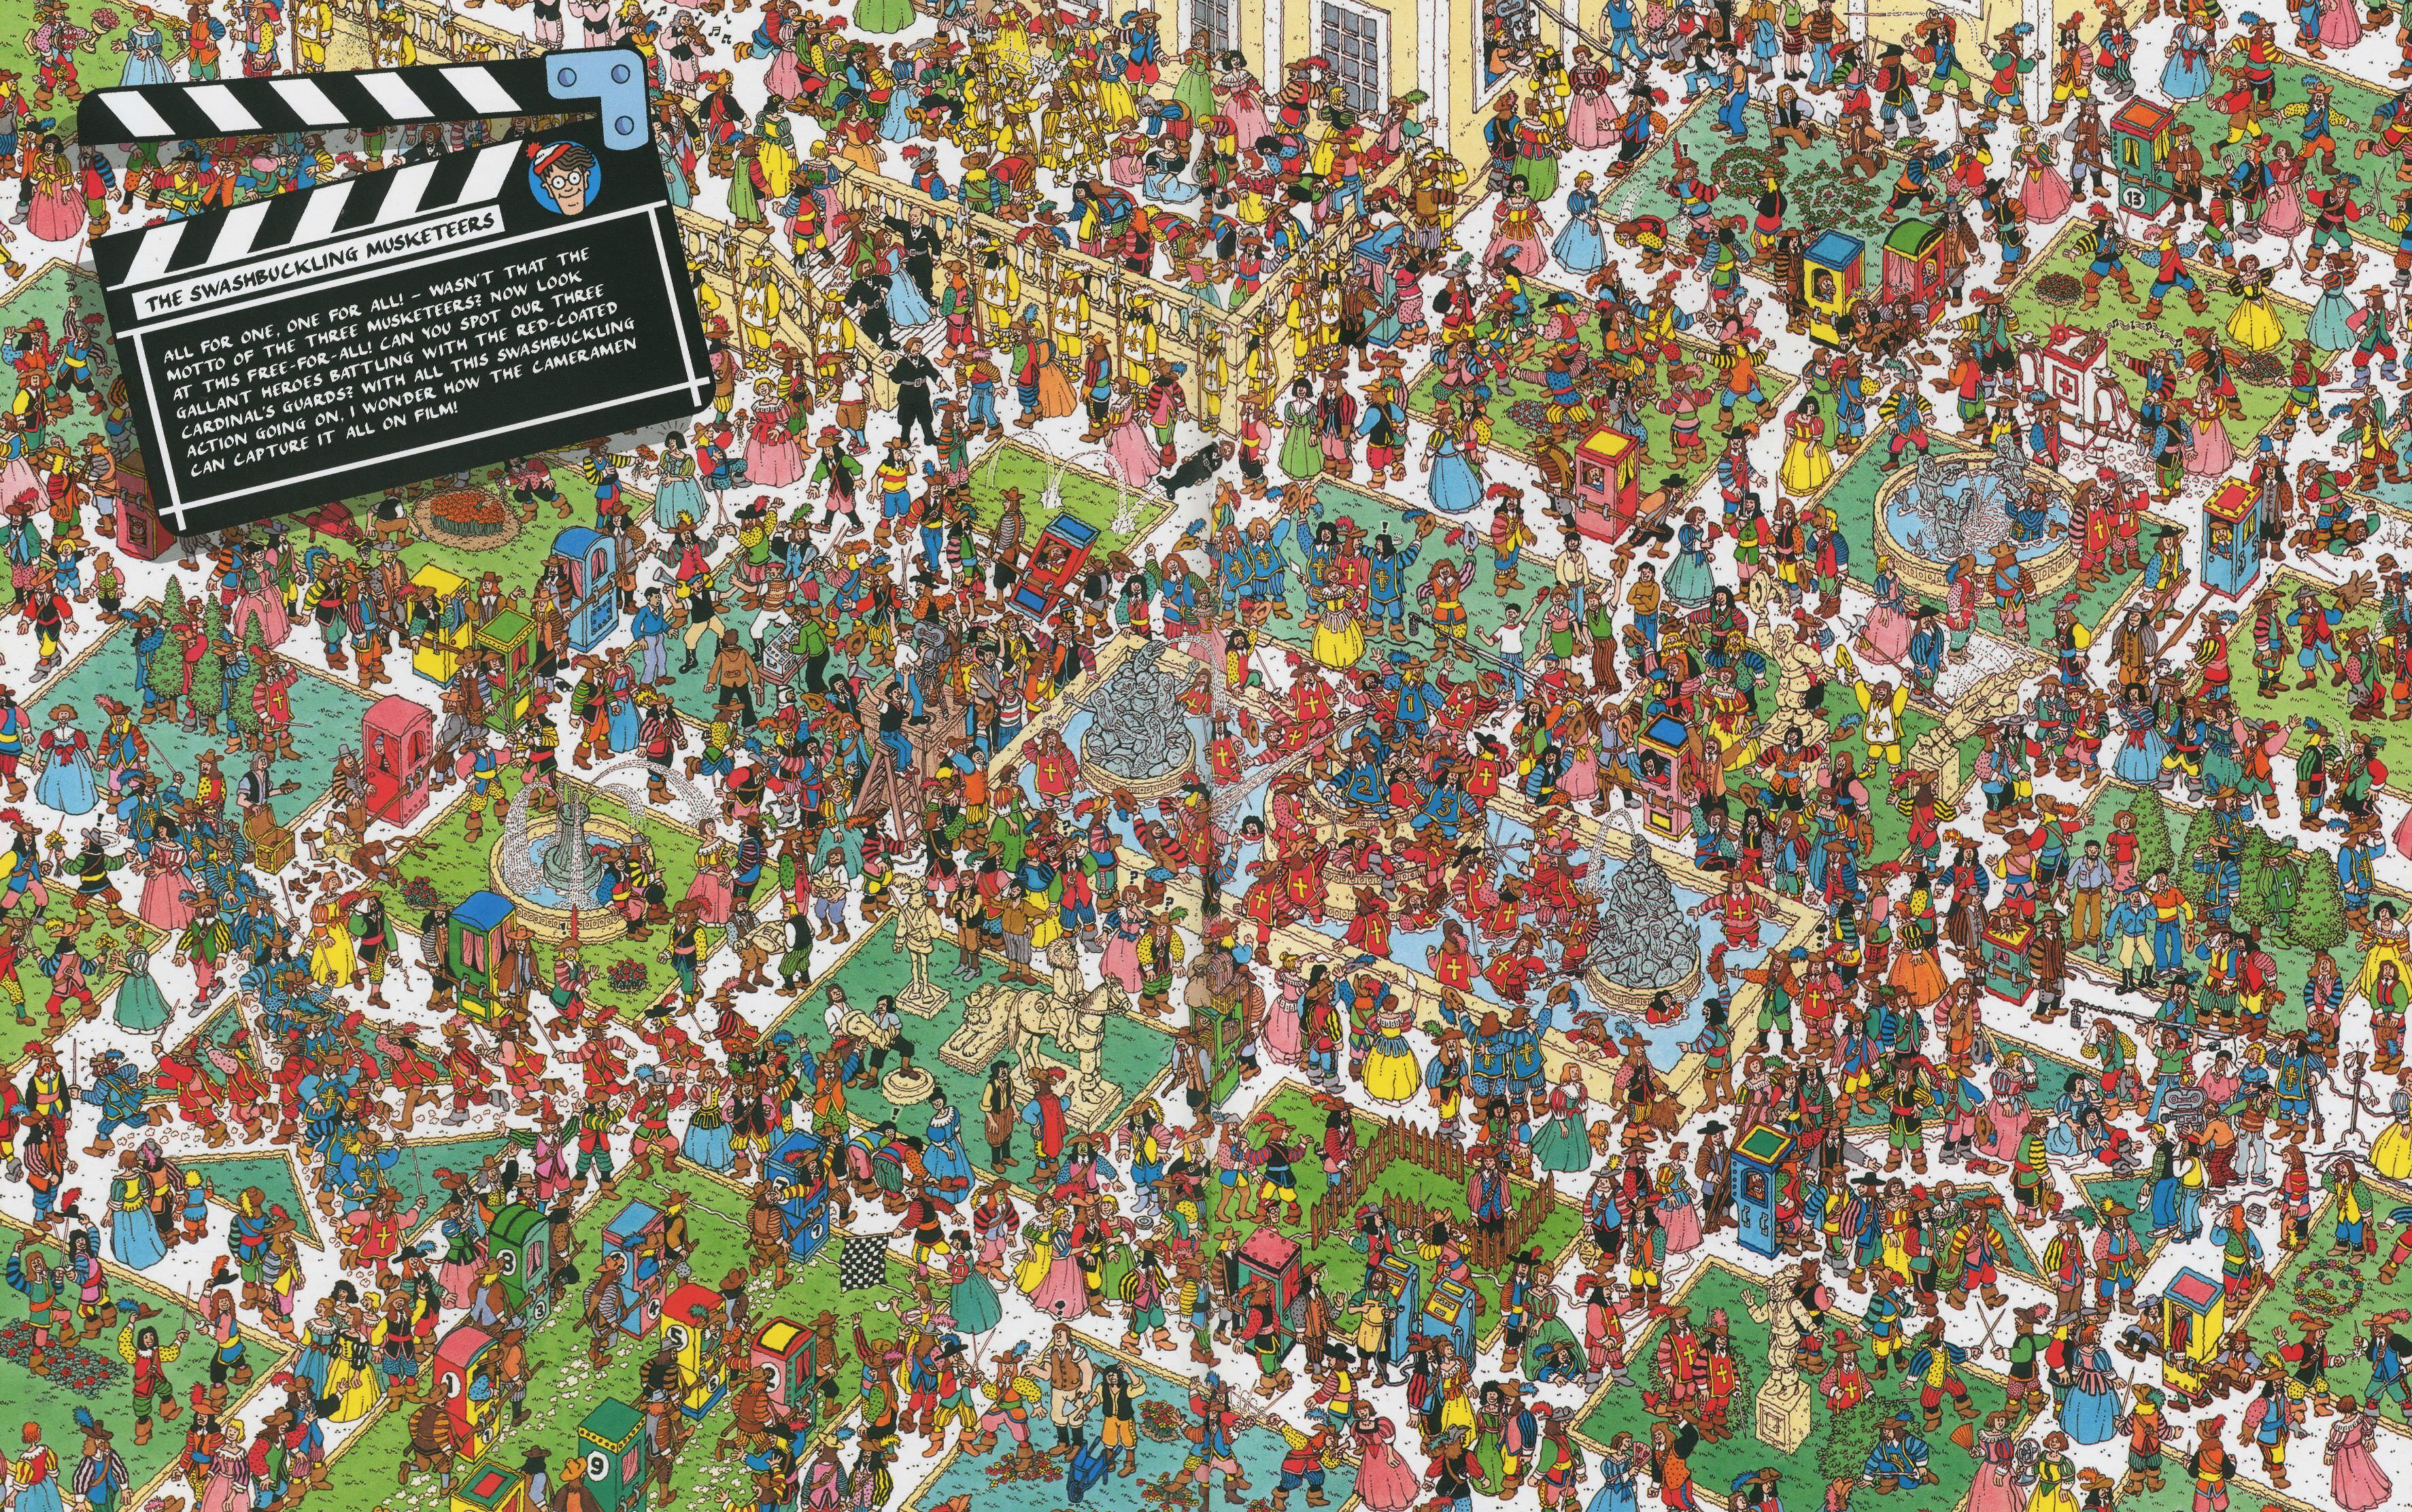Waldo: (526, 138, 615, 218), (1261, 1195, 1285, 1233)
